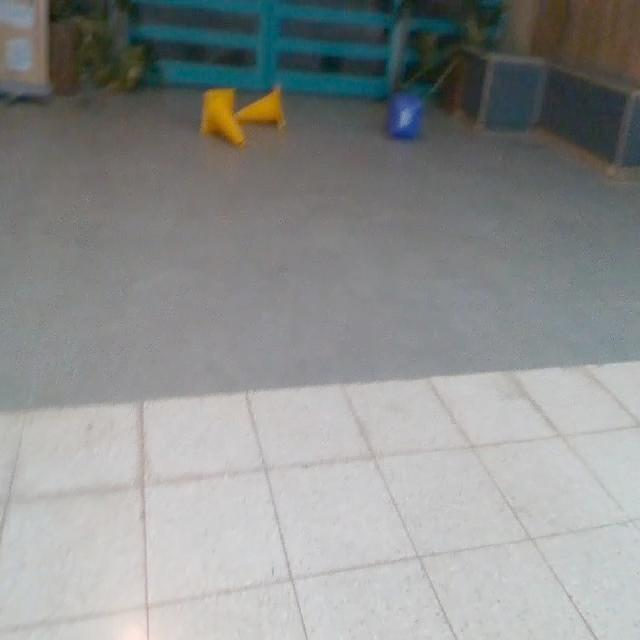cone: (202, 90, 248, 148), (232, 86, 290, 130)
cube: (390, 94, 426, 139)
